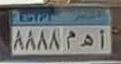8: (13, 29, 24, 52), (49, 30, 60, 52), (37, 29, 47, 51), (26, 29, 35, 51)
alif: (96, 28, 106, 51)
haa: (78, 34, 95, 48)
meem: (64, 30, 76, 49)
